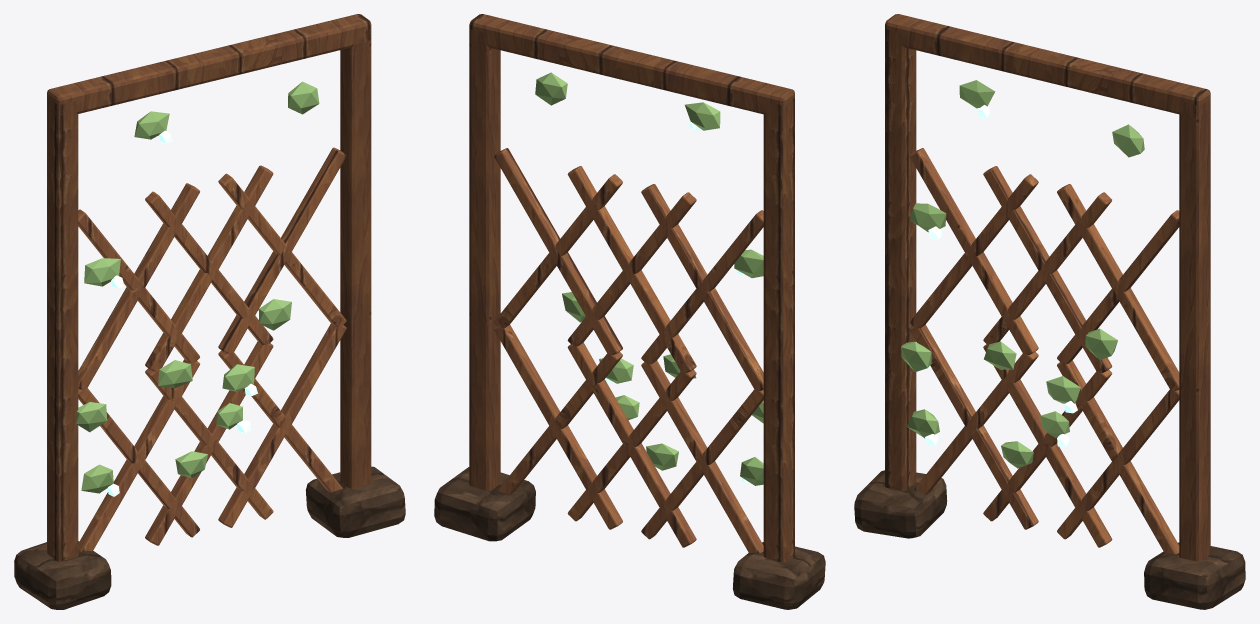
The model's file is glow_trellis.glb.
3 renders of one model, left to right at view 1: azimuth 30°, elevation 25°; view 2: azimuth 150°, elevation 25°; view 3: azimuth 330°, elevation 25°, orthographic.
Visible parts, largest first — view 1: model; view 2: model; view 3: model.
Boxes of the visible parts, x1,y1,x2,y2 form: model: (14, 14, 405, 609); model: (434, 14, 825, 609); model: (854, 14, 1245, 609).
Bounding box in the file's own units: 0.9934 × 1.32 × 0.2017.
Materials: 5 (3 with a texture image).
